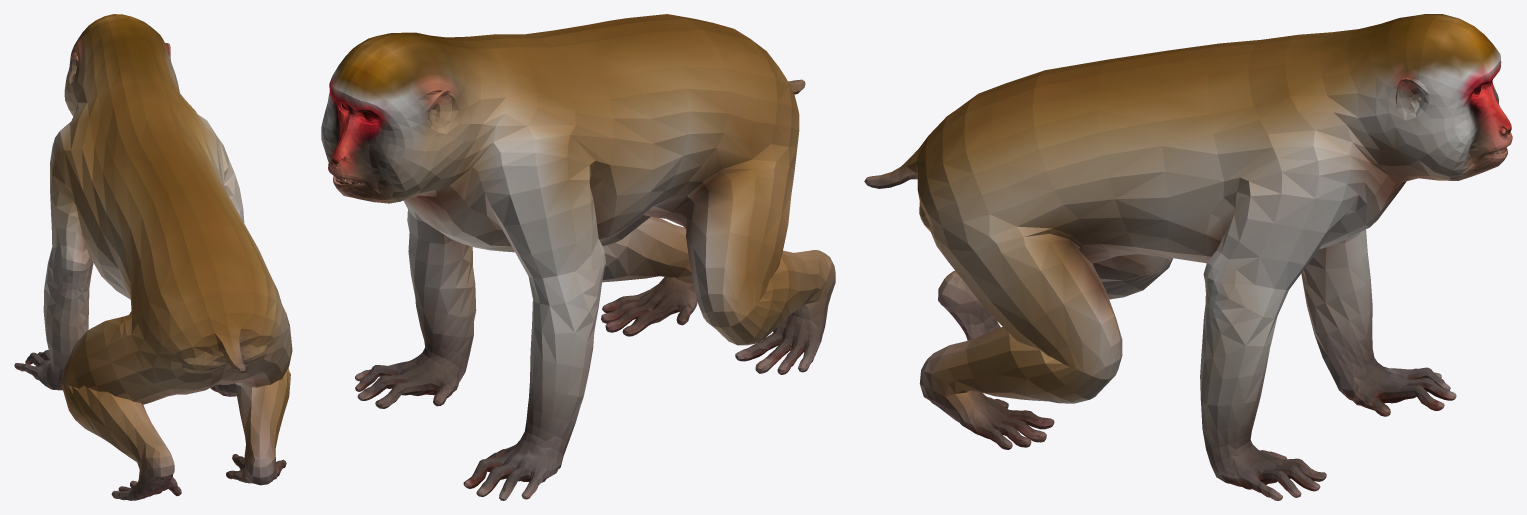
The model's file is macaque.mesh.glb.
3 views of the same model, side by side, from view 1: azimuth 30°, elevation 25°; view 2: azimuth 150°, elevation 25°; view 3: azimuth 270°, elevation 25° (orthographic). The views are drawn at different scales.
Parts seen in each view (by area): view 1: root; view 2: root; view 3: root.
Part boxes in pixels (x1,y1,x2,y2): root: [14, 14, 292, 500]; root: [321, 14, 835, 500]; root: [864, 14, 1512, 500].
Size of the model in its own units: 0.3309 by 0.4073 by 0.553.
Materials: 1 (1 with a texture image).
